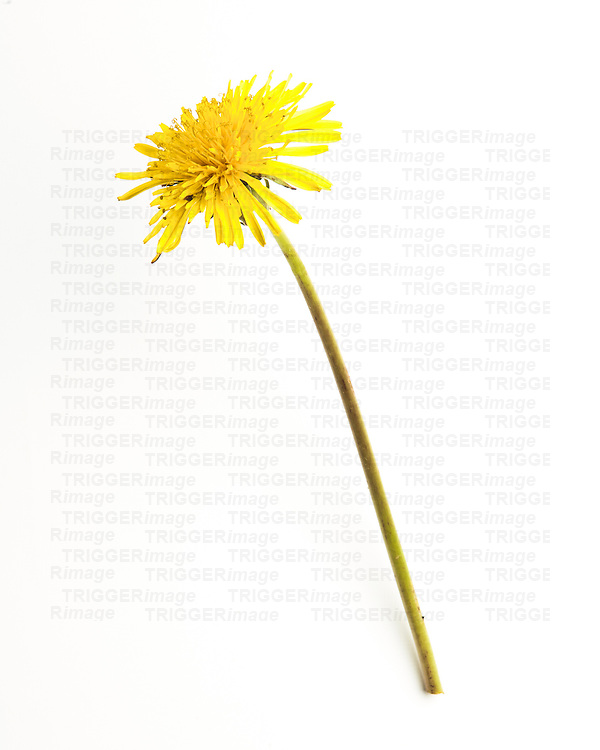dandelion: (143, 99, 341, 230)
